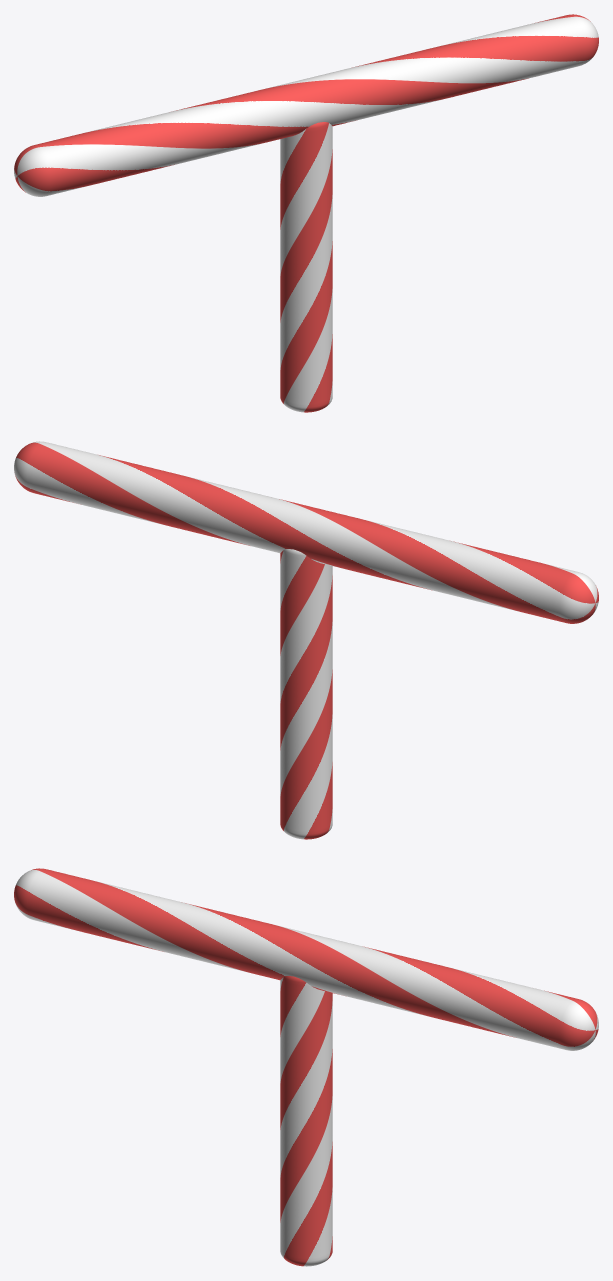
Rendered from pipe4_0.gltf.
3 renders of one model, top to bottom at view 1: azimuth 30°, elevation 25°; view 2: azimuth 150°, elevation 25°; view 3: azimuth 330°, elevation 25°, orthographic.
Parts seen in each view (by area): view 1: Capsule (×2); view 2: Capsule (×2); view 3: Capsule (×2).
Boxes of the visible parts, <box> form: Capsule (×2): <box>14,14,598,412</box>; Capsule (×2): <box>14,441,598,839</box>; Capsule (×2): <box>14,868,598,1266</box>.
Size of the model in its own units: 0.279 by 0.1505 by 0.022.
1 material, 1 textured.
